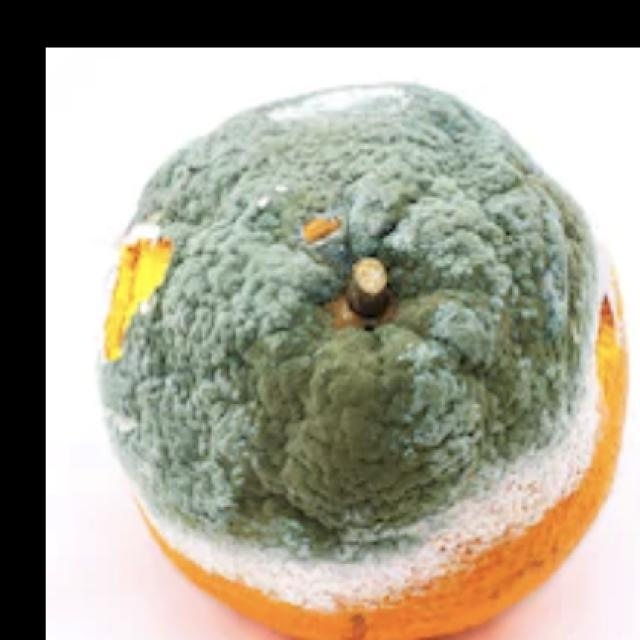sangat-busuk: (97, 84, 626, 639)
